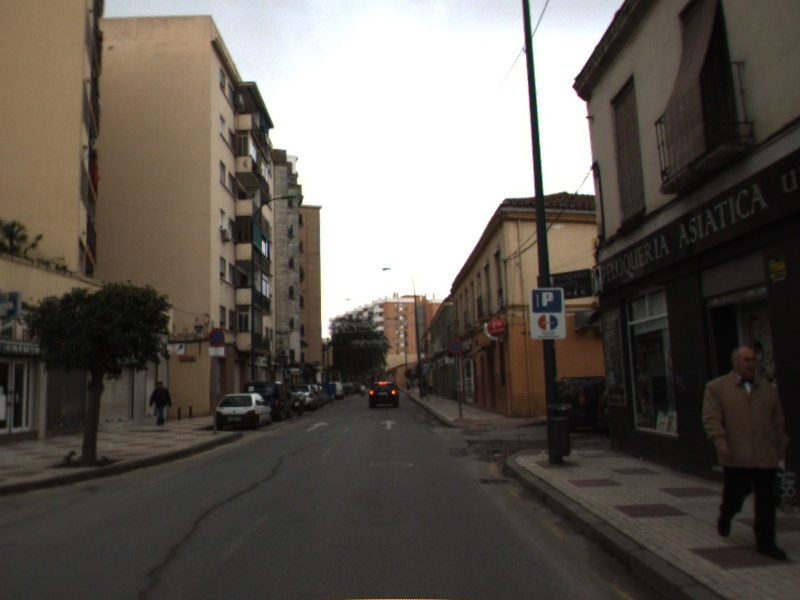STRAIGHT: (304, 419, 331, 434), (377, 418, 400, 431)
